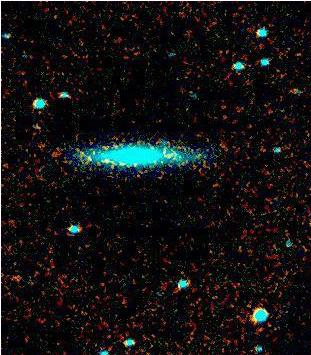star: (155, 140, 185, 170)
